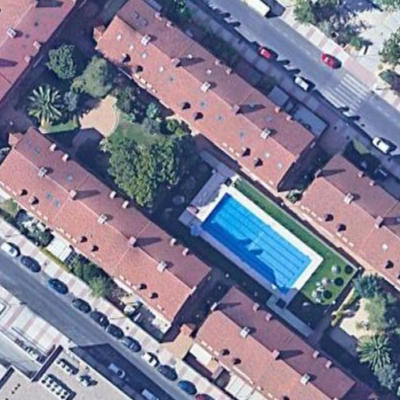tree: (107, 139, 156, 212), (76, 58, 118, 101), (355, 329, 396, 372), (153, 138, 191, 183), (28, 85, 67, 128), (46, 43, 87, 82), (365, 294, 400, 334), (291, 2, 323, 29), (88, 270, 111, 306), (358, 277, 386, 306), (144, 98, 163, 124)
